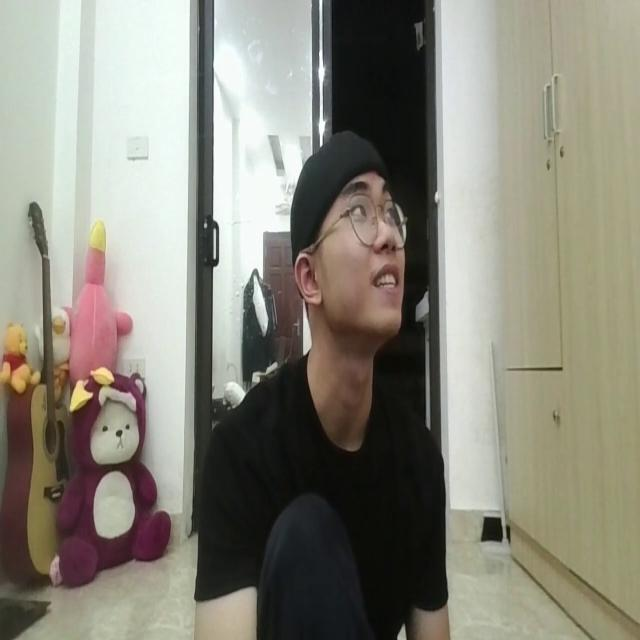student: (198, 123, 452, 640)
